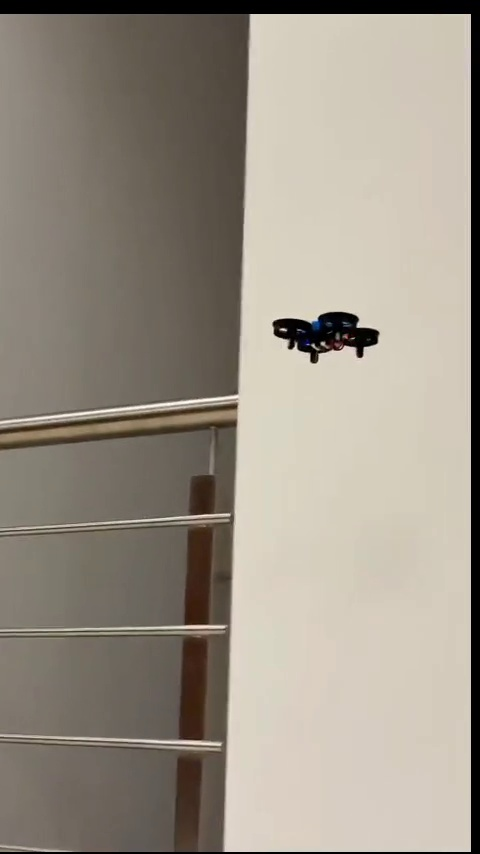drone: (273, 313, 378, 360)
